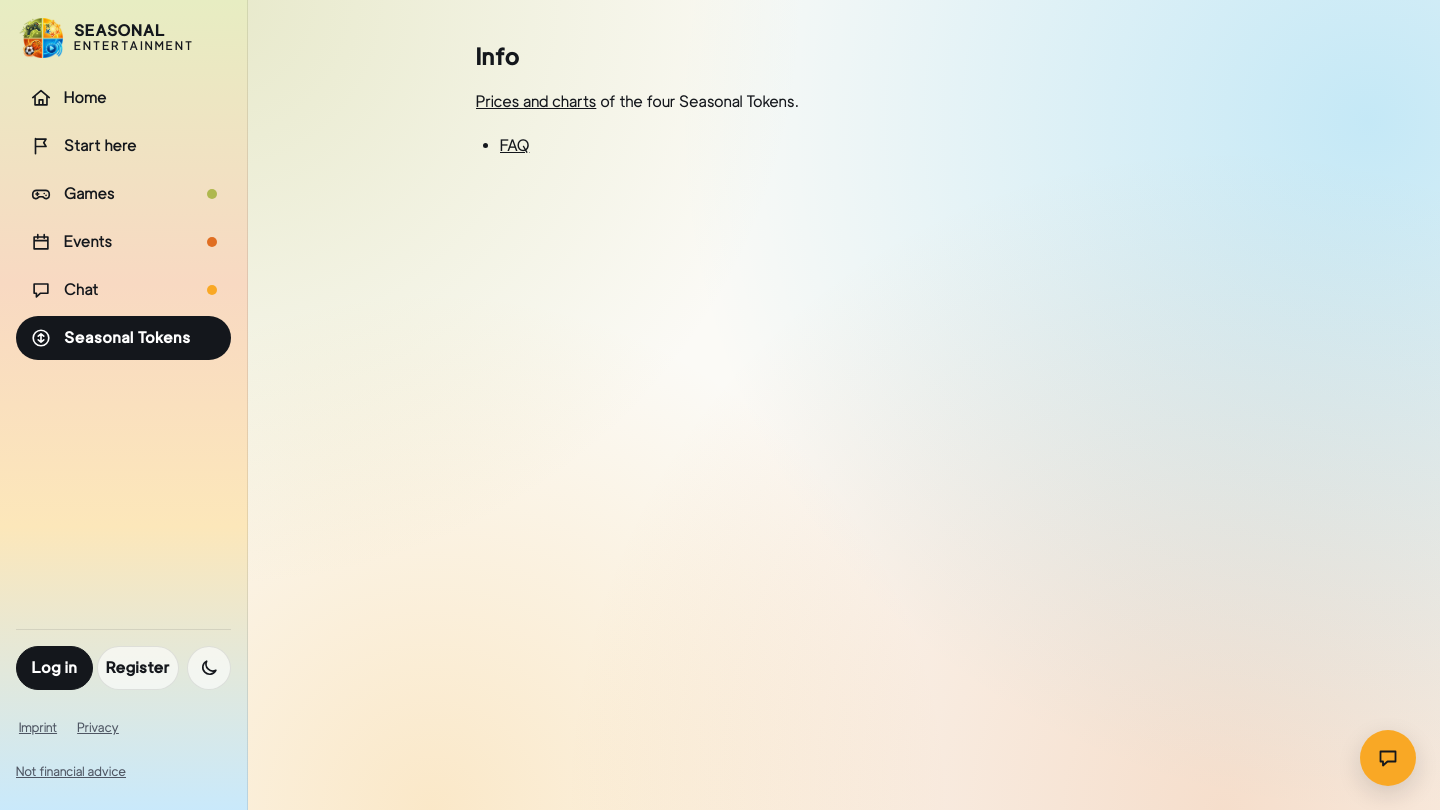
Test: public info pages › lists published pages and opens one
Click the link "FAQ" at (515, 146), box [500,136,529,155]
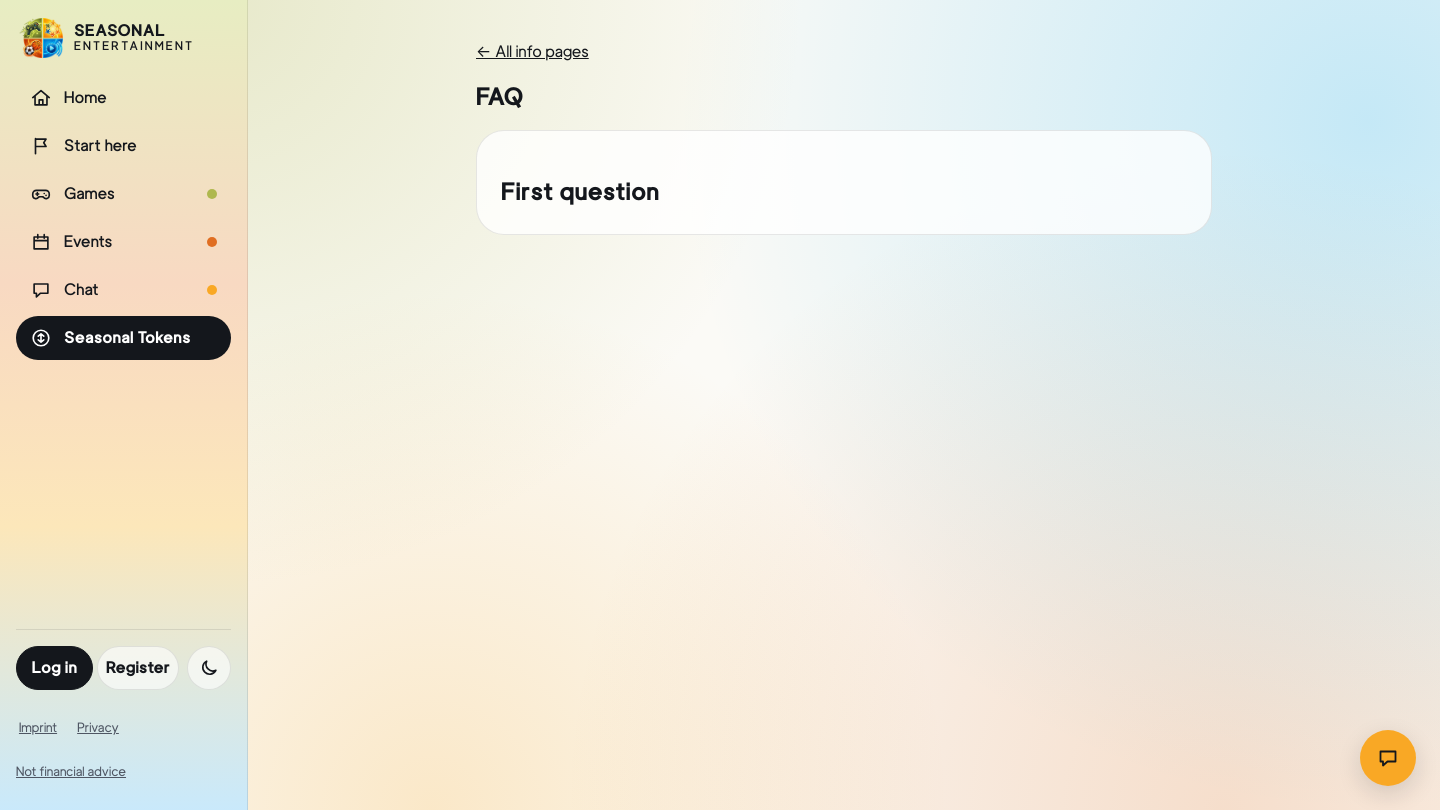
Result: the heading "First question" is shown at [501,177,660,206]
Result: the heading "FAQ" is shown at [476,82,524,111]
